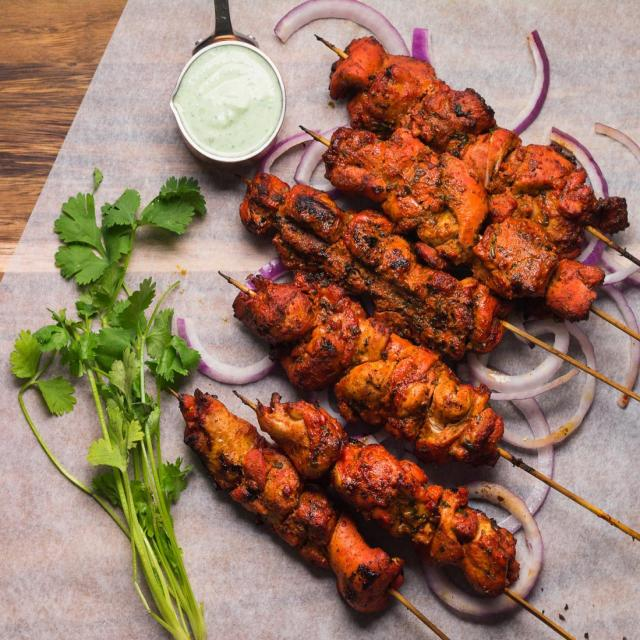Chicken Tikka: (176, 32, 626, 606)
